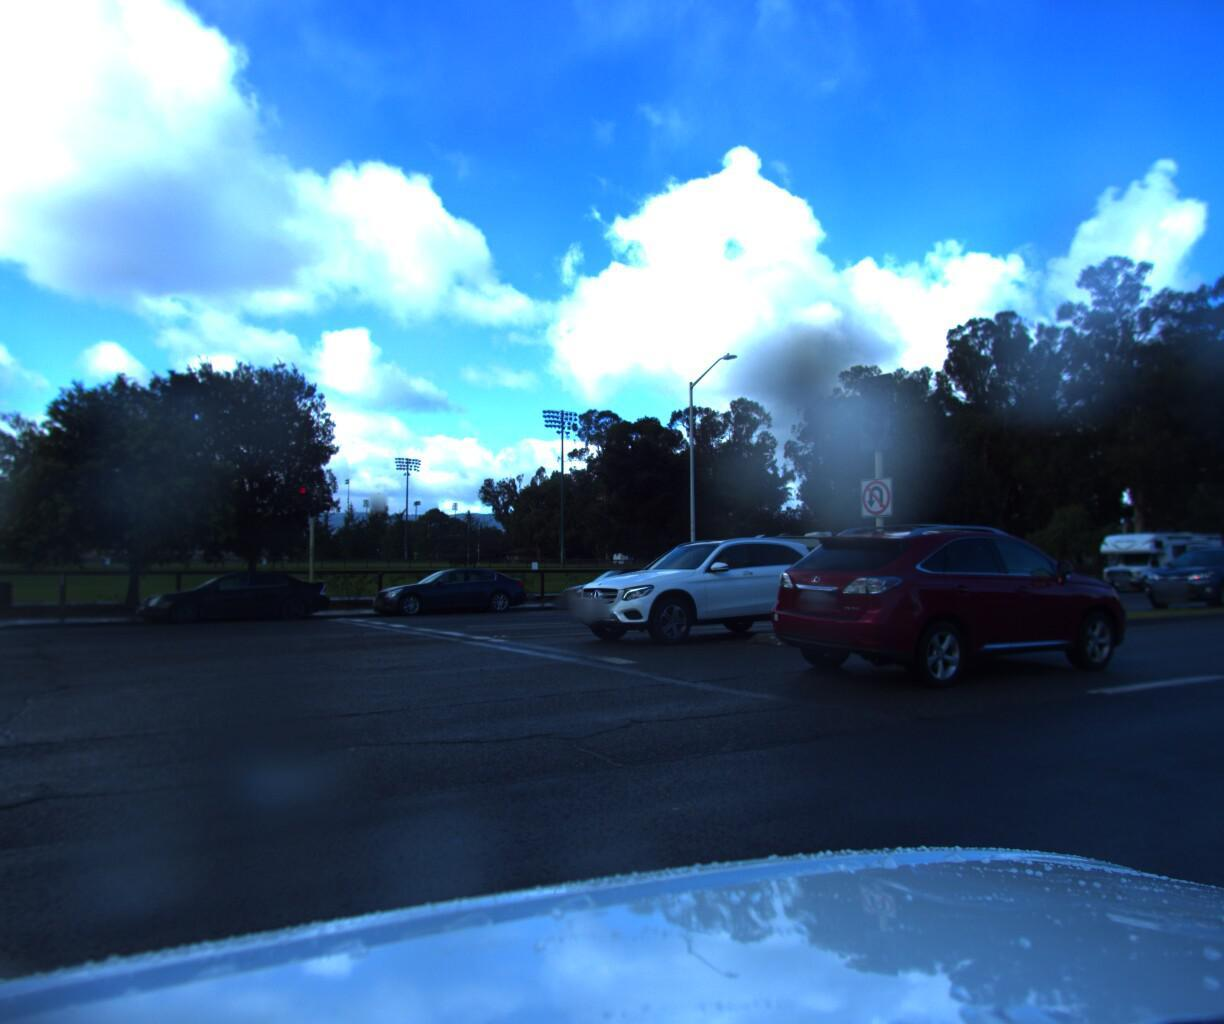car: (740, 511, 1140, 697), (563, 536, 845, 654), (133, 568, 336, 635), (358, 570, 534, 628), (546, 571, 693, 618), (1123, 542, 1224, 608), (972, 567, 1075, 605)
other_vehicle: (693, 532, 865, 611), (1080, 531, 1223, 596)
